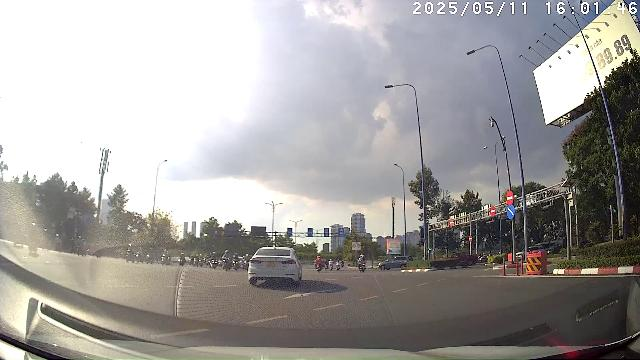102-cam-di-nguoc-chieu: (506, 191, 514, 205), (490, 206, 496, 216)
302a-huong-phai-di-vong-chuong-ngai-vat-1: (507, 205, 515, 219)
